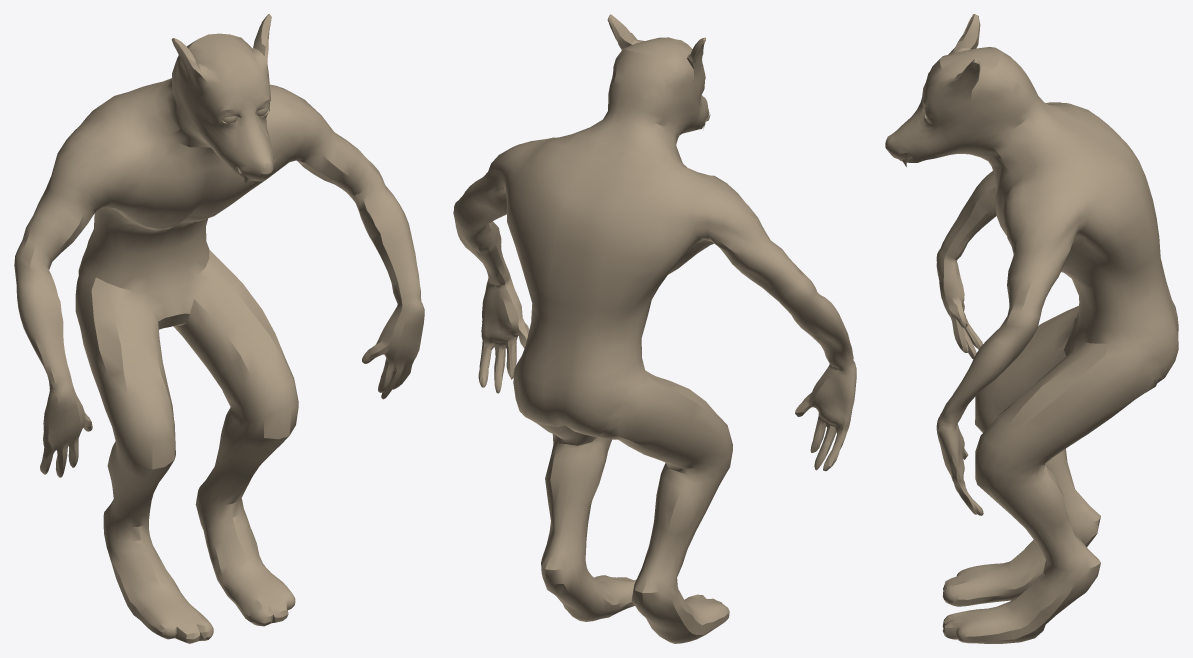
Rendered from LowPoly.fbx.
The picture shows the model from 3 angles, left to right: view 1: azimuth 30°, elevation 25°; view 2: azimuth 150°, elevation 25°; view 3: azimuth 270°, elevation 25°; orthographic projection. The views are drawn at different scales.
Parts seen in each view (by area): view 1: LowPoly; view 2: LowPoly; view 3: LowPoly.
Boxes of the visible parts, x1=… form: LowPoly: x1=14, y1=14, x2=424, y2=643; LowPoly: x1=453, y1=14, x2=856, y2=643; LowPoly: x1=885, y1=14, x2=1178, y2=643.
Size of the model in its own units: 383 by 570 by 260.
